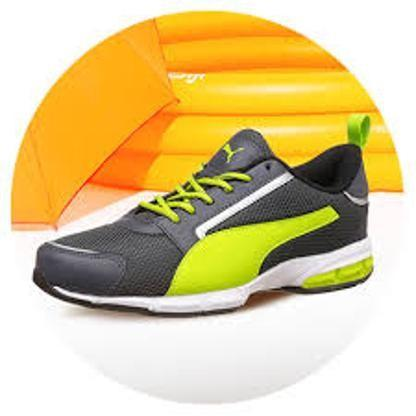not trash: (34, 112, 389, 310)
